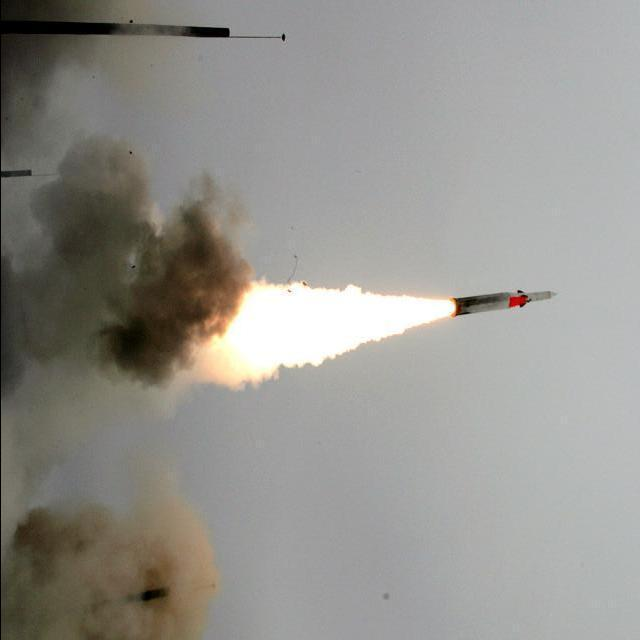missile: (433, 283, 573, 328)
